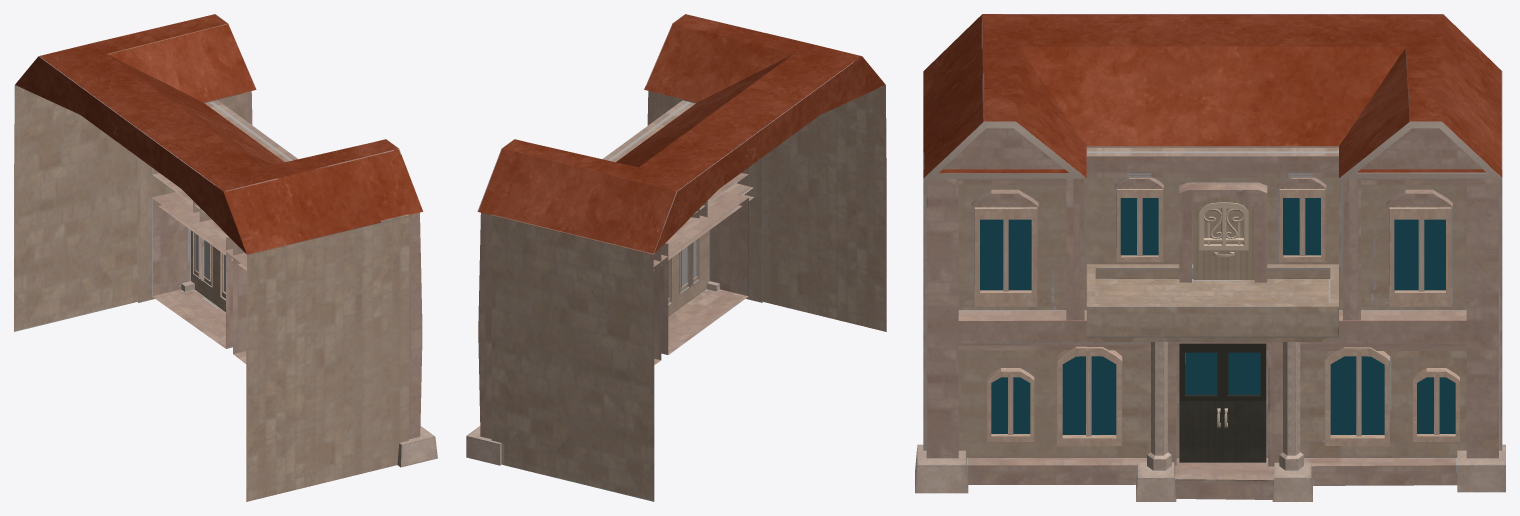
File: Bat_VieuxPort_1.fbx
The picture shows the model from 3 angles, left to right: view 1: azimuth 30°, elevation 25°; view 2: azimuth 150°, elevation 25°; view 3: azimuth 270°, elevation 25°; orthographic projection. The views are drawn at different scales.
Parts seen in each view (by area): view 1: Bat_VieuxP_1; view 2: Bat_VieuxP_1; view 3: Bat_VieuxP_1.
Part boxes in pixels (x1,y1,x2,y2): Bat_VieuxP_1: (14, 14, 437, 501); Bat_VieuxP_1: (466, 14, 886, 501); Bat_VieuxP_1: (915, 14, 1505, 501).
Size of the model in its own units: 805 by 1111 by 1629.
